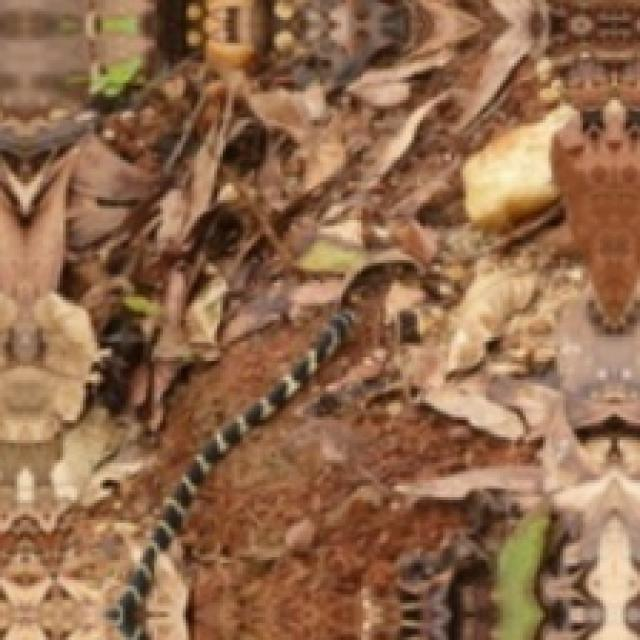king cobra: (117, 306, 363, 637)
